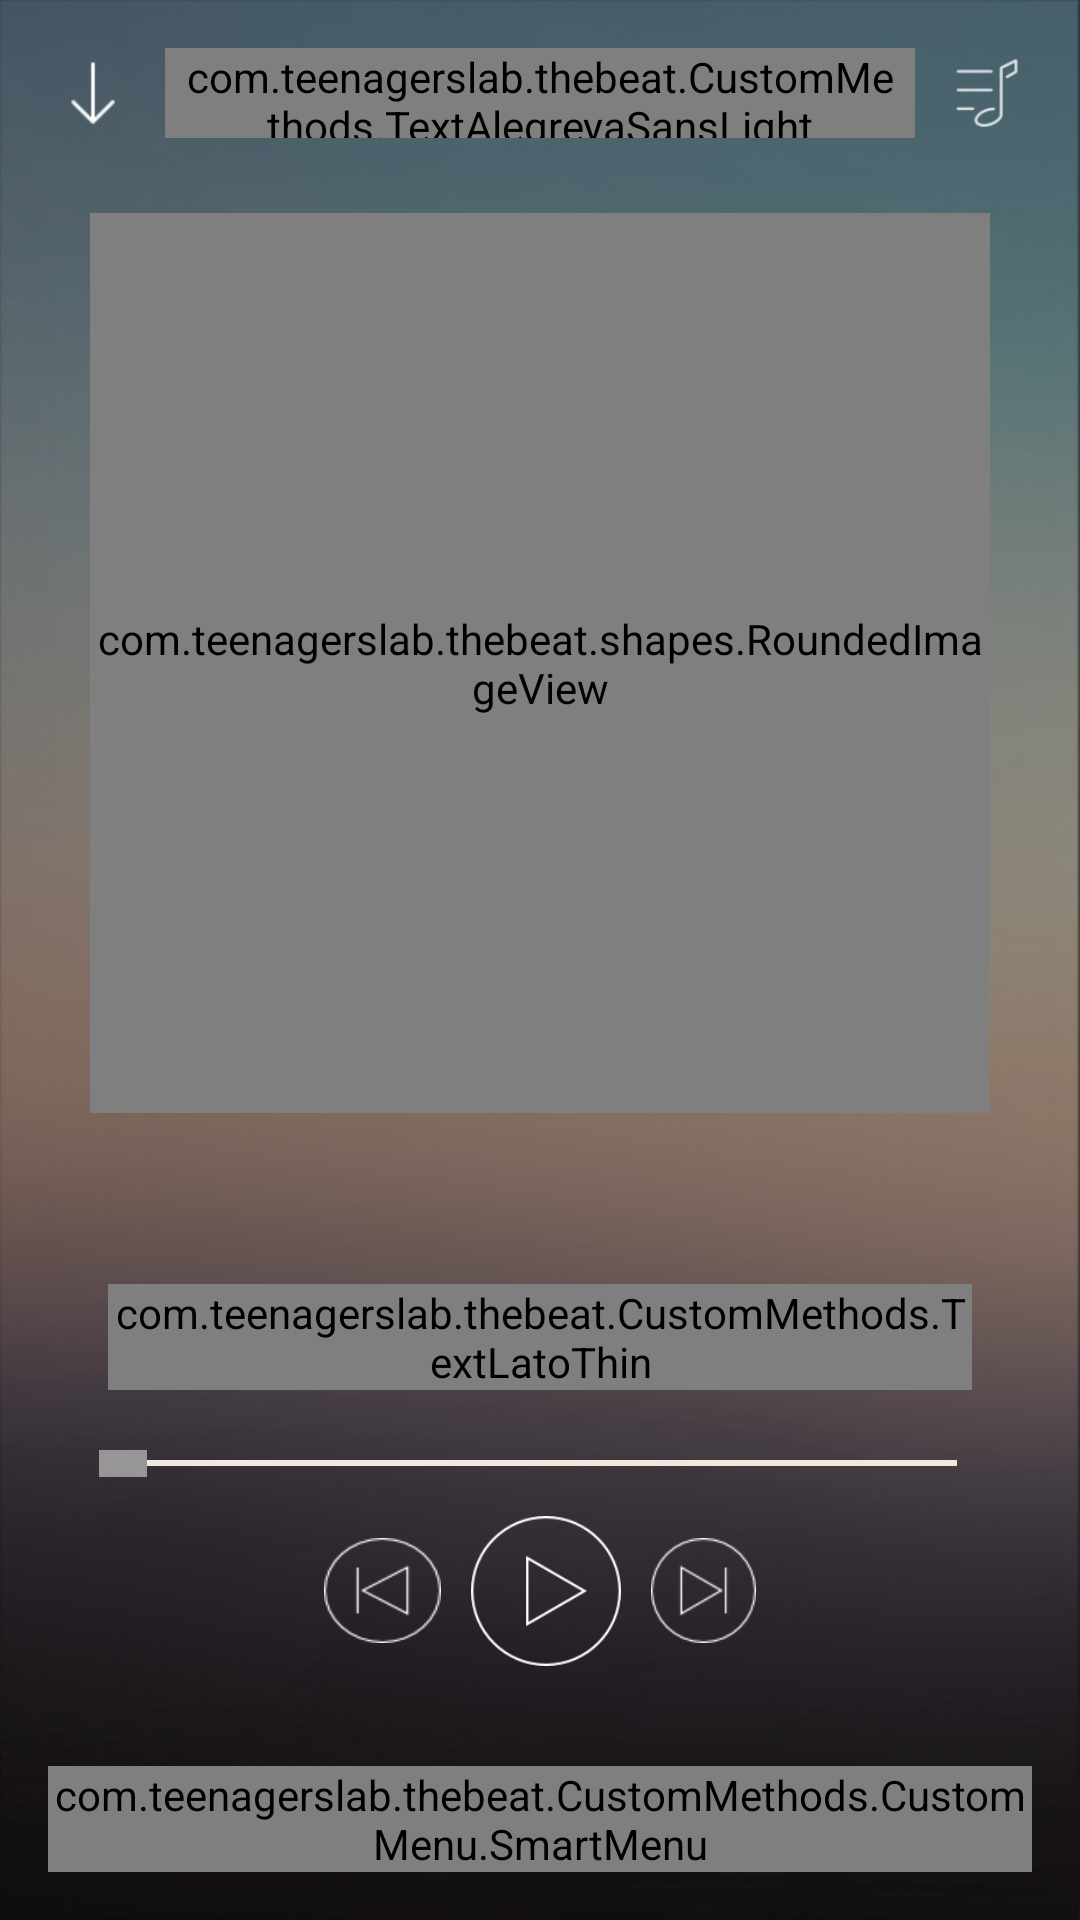

Where icons sit on this 1080*1920 app screen, as (x1, y1, x2, y2):
down: (71, 62, 115, 124)
next: (651, 1538, 756, 1643)
play: (471, 1516, 621, 1666)
prev: (324, 1538, 441, 1643)
